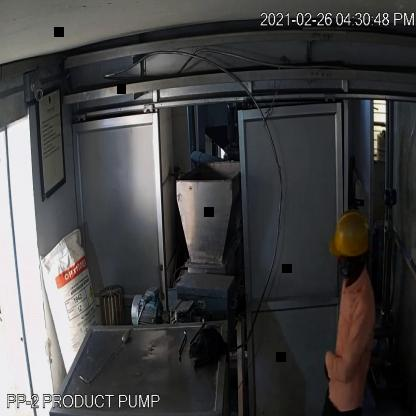helmet: (318, 196, 376, 268)
